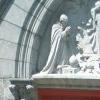Statue: (39, 3, 100, 84)
